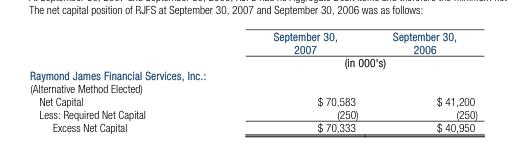table: (29, 29, 477, 133)
table column: (29, 29, 208, 133), (208, 29, 374, 133), (374, 29, 477, 133)
table column header: (29, 29, 477, 68)
table projected row header: (29, 68, 477, 81), (29, 81, 477, 94)
table row: (29, 29, 477, 55), (29, 106, 477, 120), (29, 55, 477, 68), (29, 68, 477, 81), (29, 81, 477, 94), (29, 120, 477, 133), (29, 94, 477, 106)
table spanning cell: (208, 55, 477, 68)
